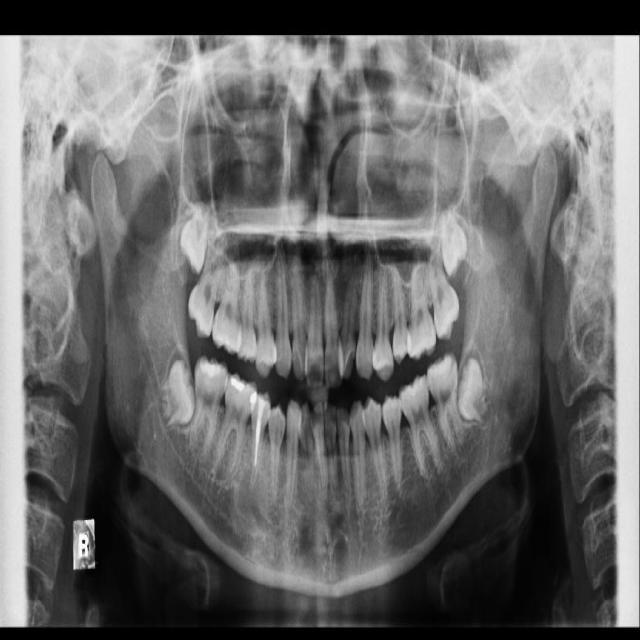3M ESPE Implant: (175, 196, 214, 276)
52: (190, 351, 233, 399), (220, 371, 260, 414), (249, 389, 272, 423)
73: (246, 414, 268, 494), (616, 611, 628, 621)
BioHorizons Implant: (422, 221, 464, 343)
BioLife Implant: (437, 199, 470, 281)
Biomet 3i Implant: (455, 355, 501, 428)
Blue Sky Bio Implant: (423, 349, 468, 459)
Caries: (182, 235, 231, 340)
Implant: (181, 350, 232, 466)
Keystone Dental Implant: (147, 358, 202, 430)
